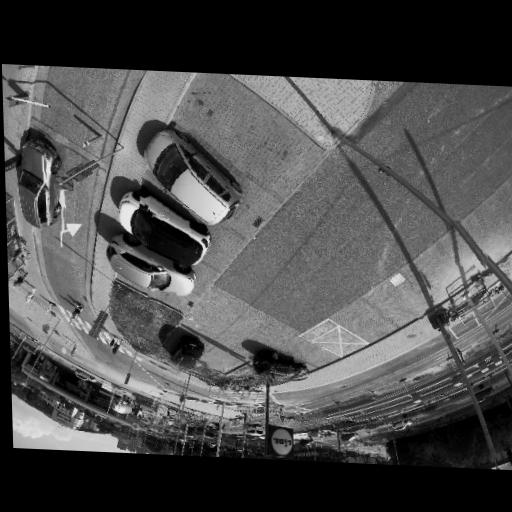busy: (139, 129, 249, 227), (116, 193, 210, 262), (15, 134, 66, 232), (111, 244, 194, 294), (249, 348, 308, 385), (167, 335, 209, 373)
free: (218, 113, 289, 163), (444, 221, 491, 270), (410, 254, 453, 291), (486, 189, 512, 249), (373, 291, 425, 318), (343, 305, 387, 331), (291, 341, 323, 363), (205, 351, 232, 369), (147, 287, 177, 303)
